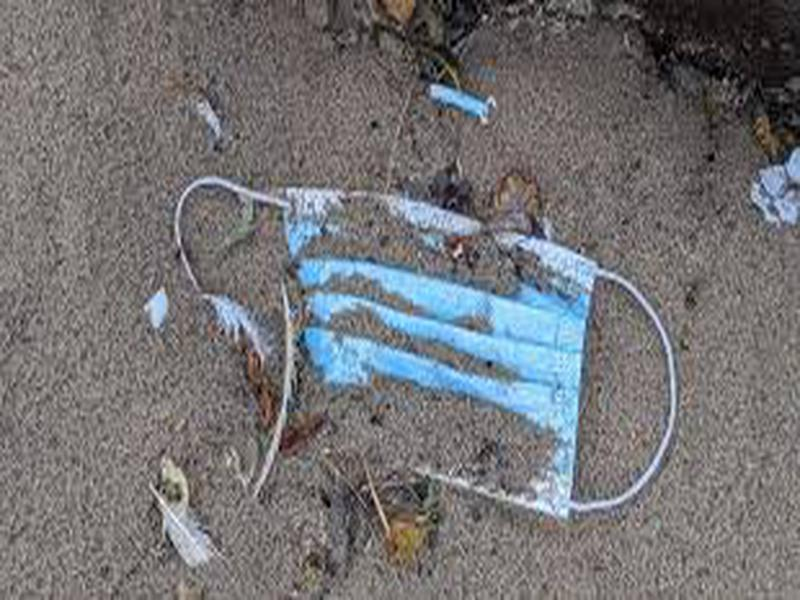mask: (170, 167, 685, 533)
